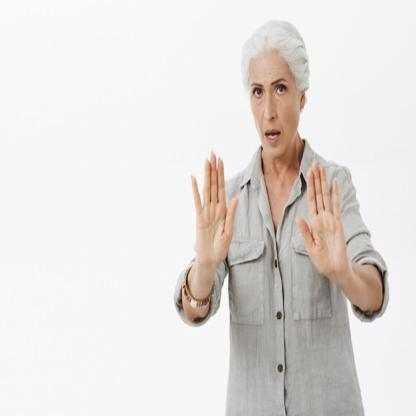stop: (293, 158, 352, 286), (187, 146, 240, 268)
